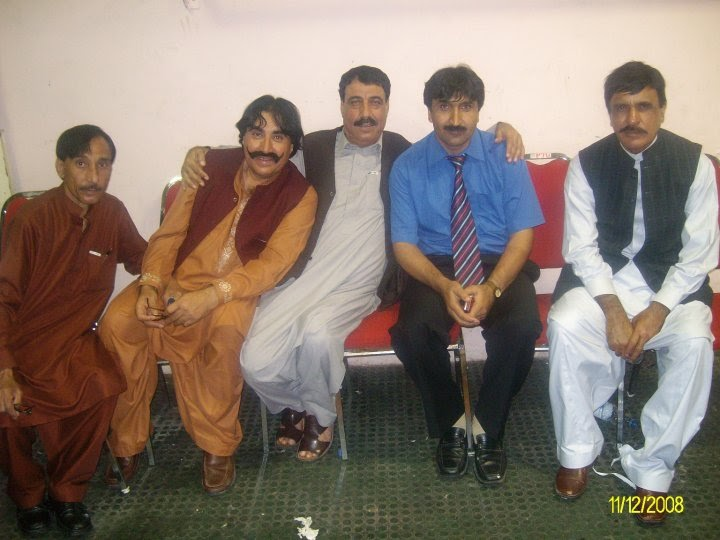bad: (66, 147, 118, 199), (429, 95, 481, 147), (239, 118, 291, 170), (337, 90, 389, 141), (607, 90, 659, 141)
